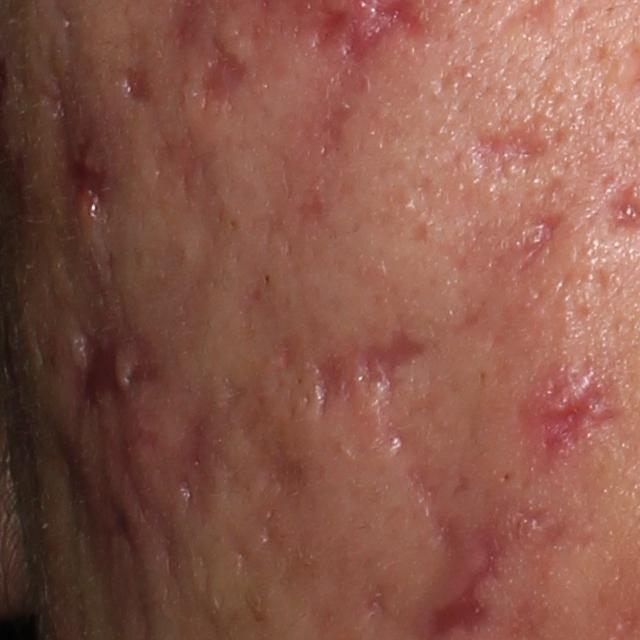atrophic_scar: (426, 490, 546, 639), (307, 330, 434, 422), (528, 370, 630, 465), (240, 395, 315, 495), (56, 104, 116, 217), (470, 113, 559, 172), (157, 121, 217, 196), (189, 36, 248, 111), (516, 208, 570, 278), (401, 462, 449, 517), (79, 336, 114, 409), (314, 102, 359, 149), (124, 62, 157, 108)
hypertrophic_scar: (57, 388, 212, 545), (111, 348, 134, 395)
